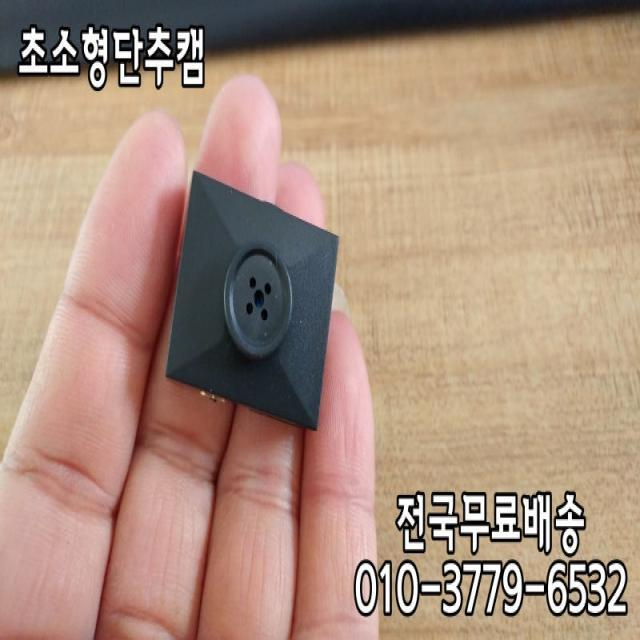hidden camera: (252, 286, 265, 308)
